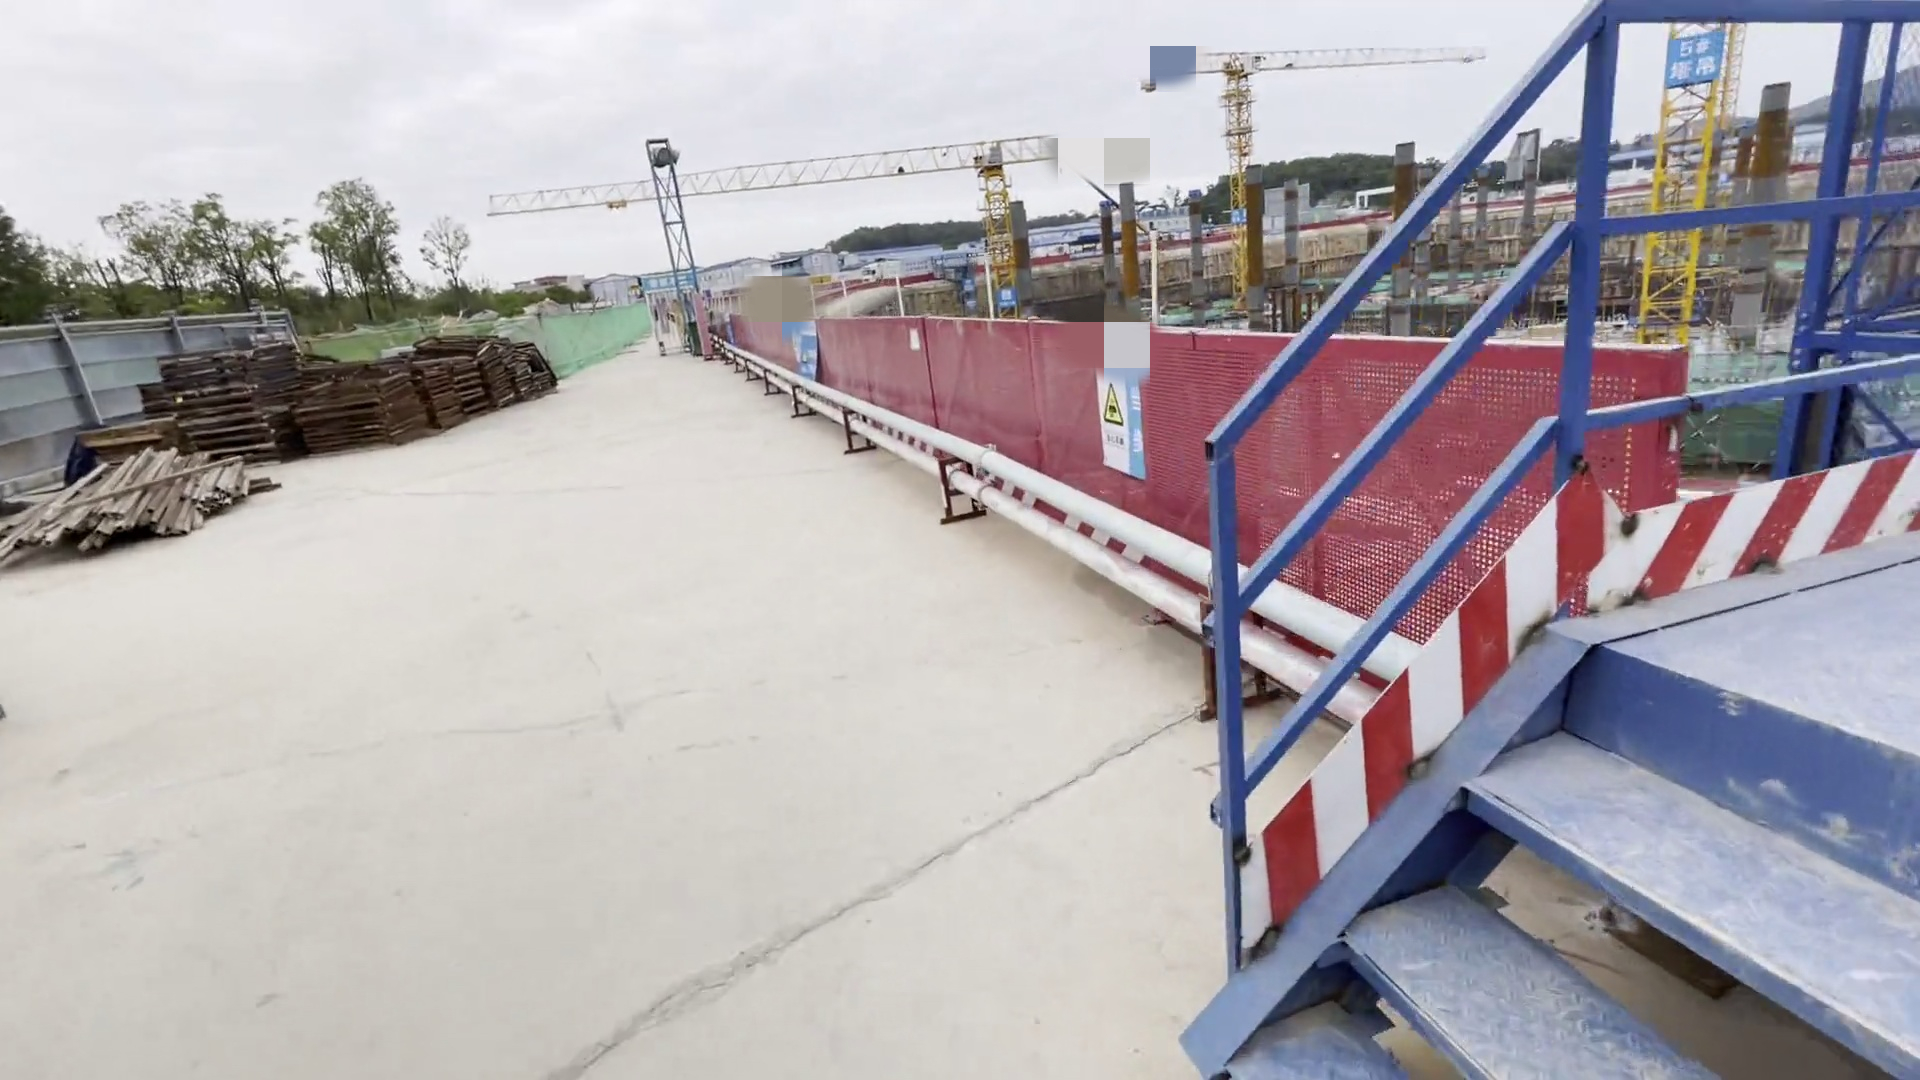fence: (723, 295, 1669, 636)
slogan: (1087, 324, 1160, 496), (782, 310, 837, 388), (1669, 32, 1730, 88), (636, 262, 715, 295)
wood: (1, 444, 266, 566)
